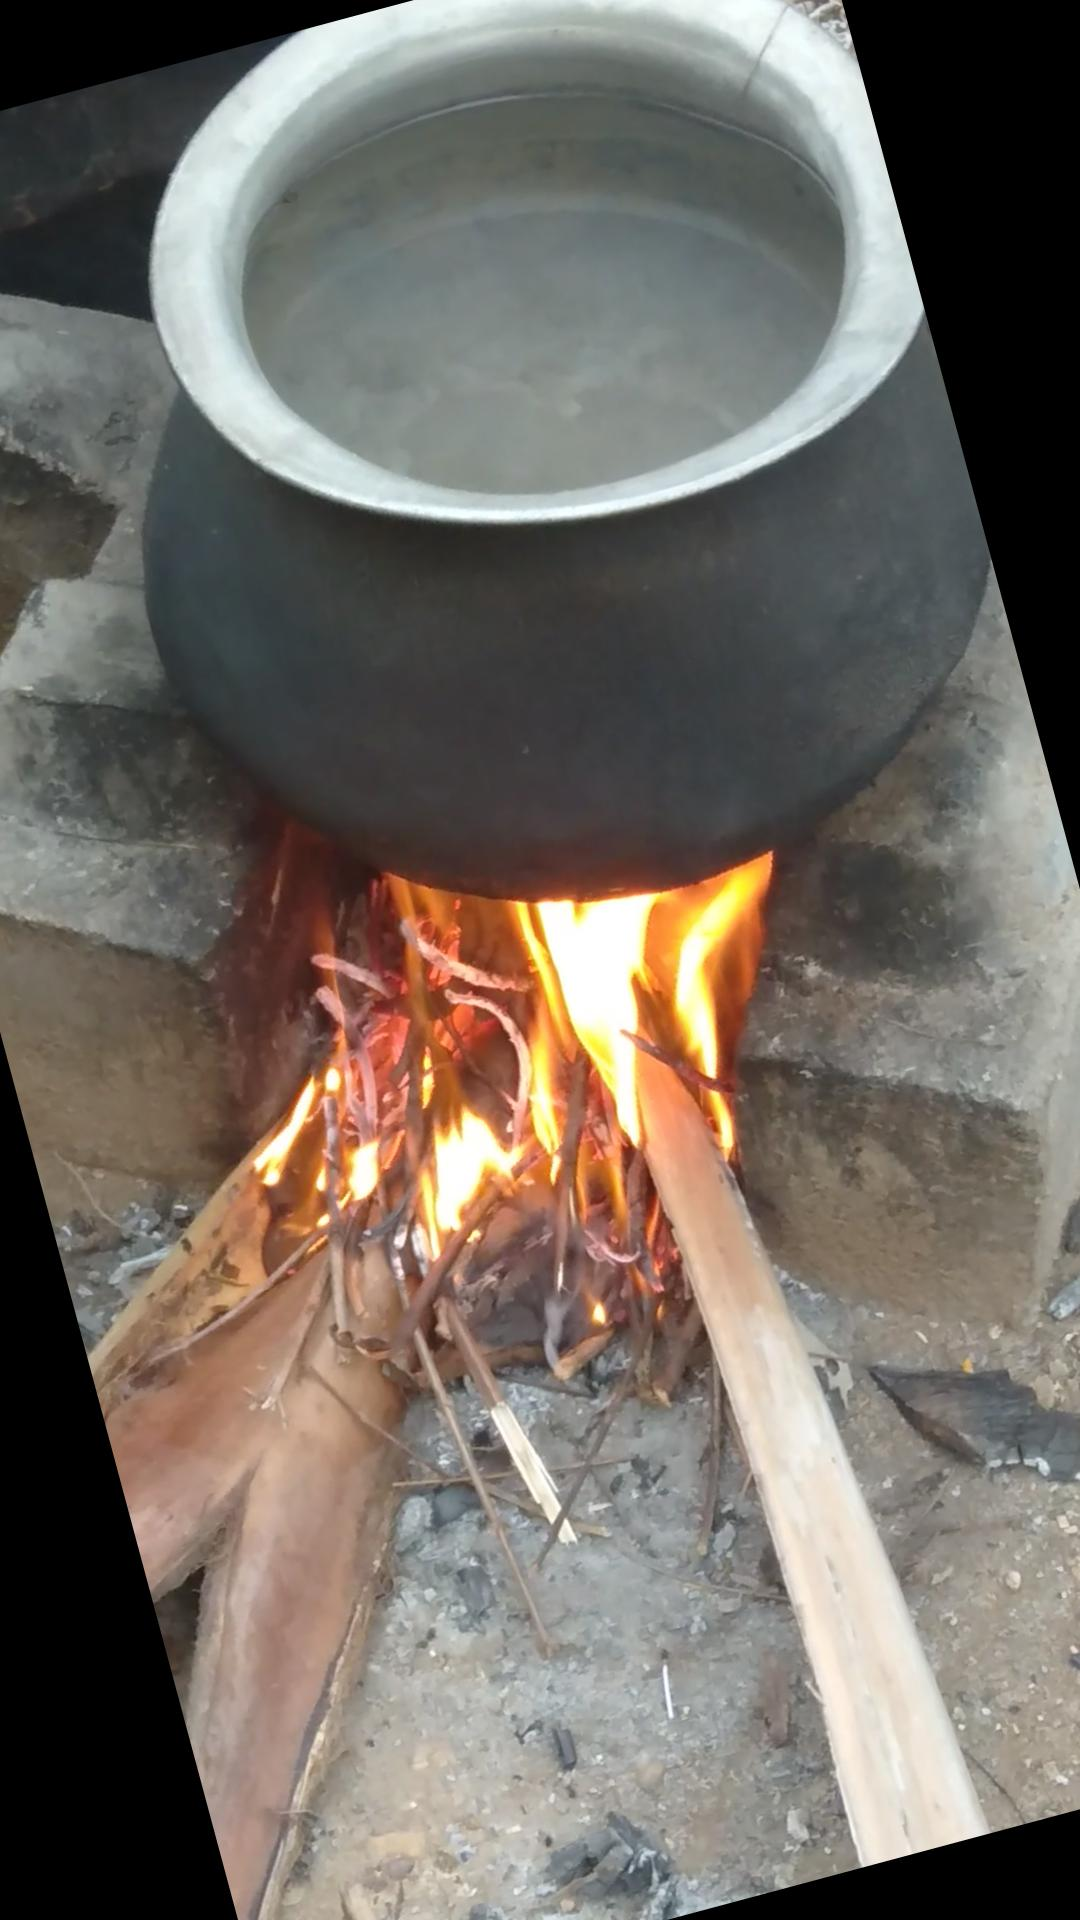Fire: (202, 828, 860, 1309)
